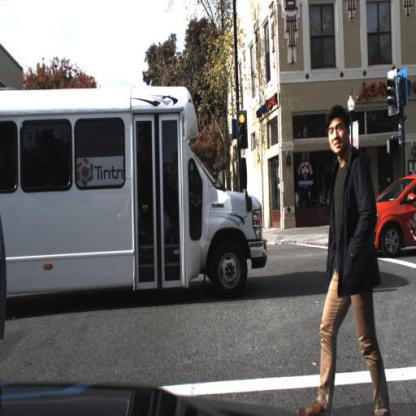pedestrian: (302, 105, 392, 416), (406, 167, 416, 231)
trafficLight-Red: (238, 110, 249, 147)
truck: (2, 83, 270, 312)
